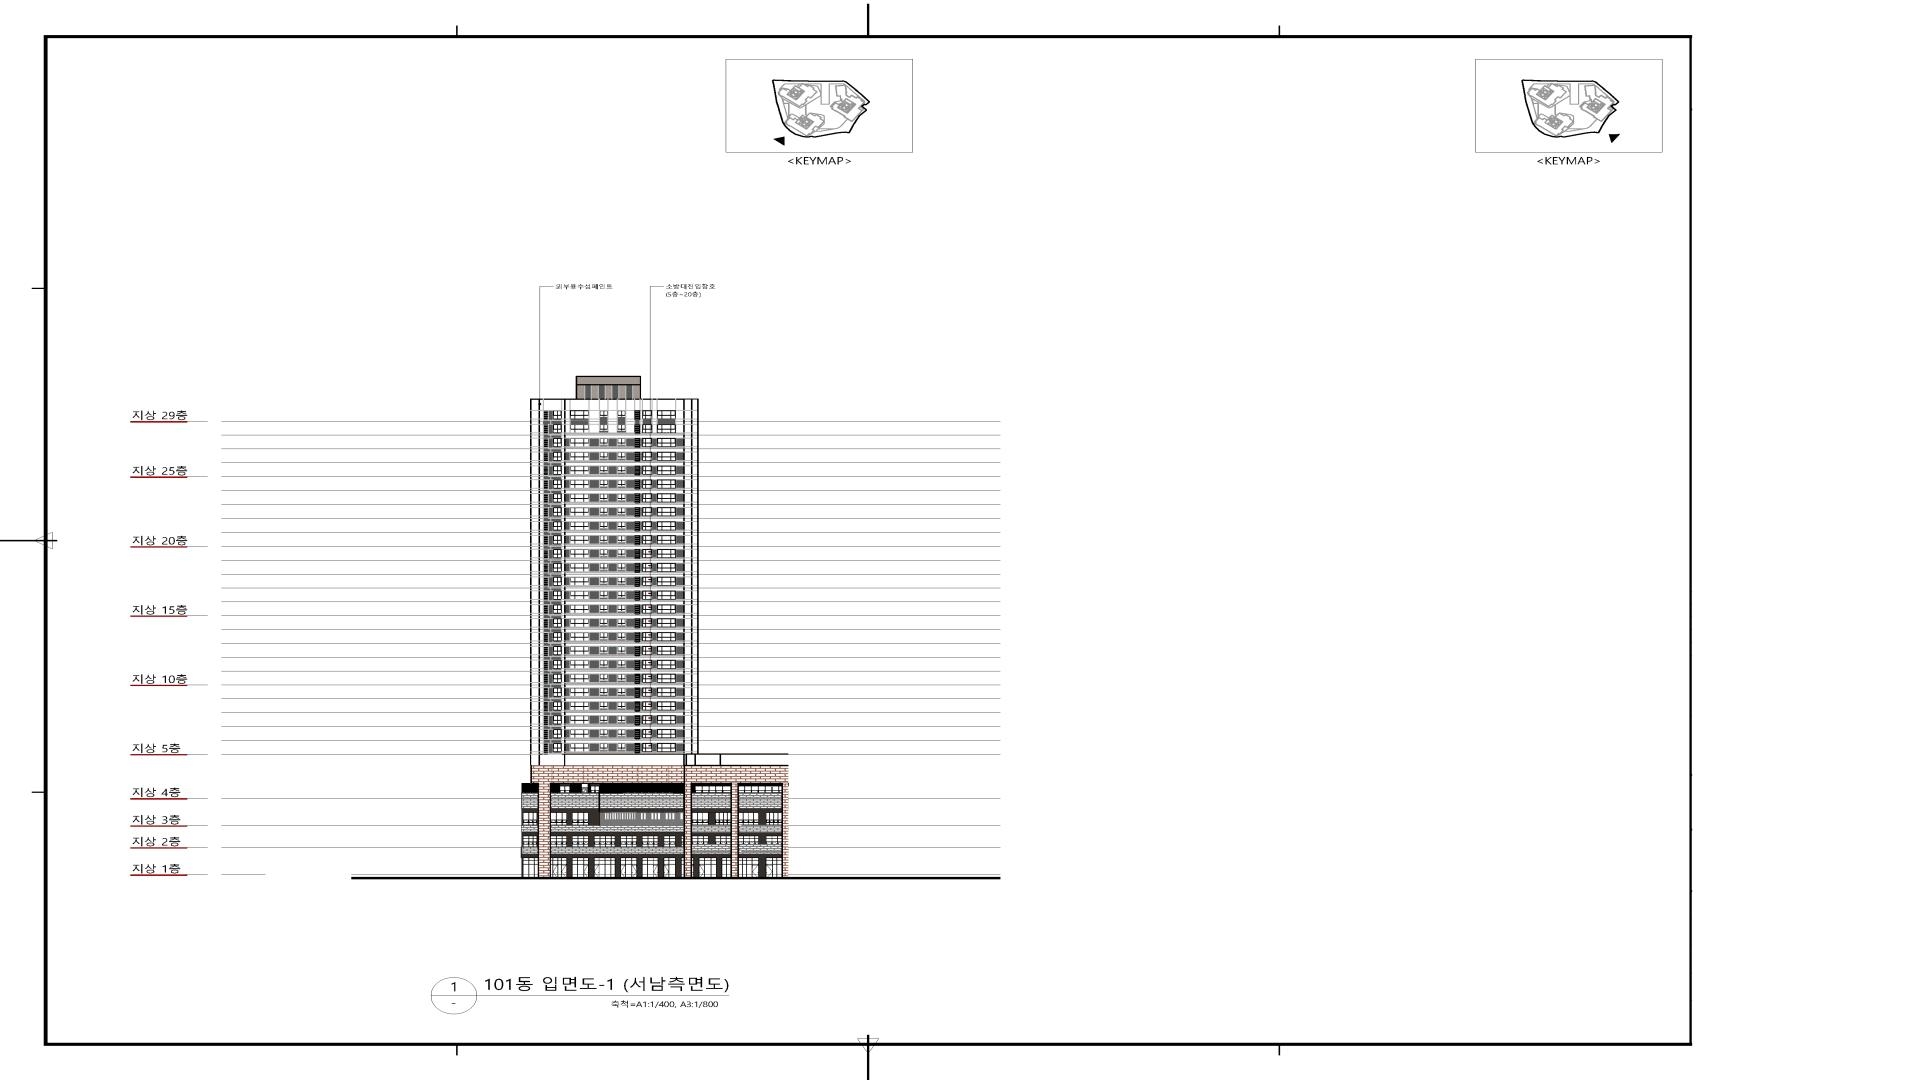door: (752, 864, 760, 877), (560, 864, 567, 877), (583, 864, 589, 877), (620, 864, 626, 877), (663, 864, 670, 877), (699, 864, 705, 877), (766, 864, 773, 877), (553, 864, 558, 877), (593, 864, 599, 877), (632, 864, 637, 877), (653, 864, 658, 877)
wall: (521, 376, 789, 880)
window: (737, 812, 760, 825), (595, 836, 616, 848), (550, 812, 567, 825), (715, 812, 732, 825), (691, 812, 709, 824), (572, 812, 588, 825), (550, 836, 567, 848), (766, 812, 783, 824), (524, 812, 538, 825), (642, 836, 658, 848), (657, 425, 676, 434), (657, 438, 676, 447), (657, 465, 676, 475), (657, 493, 676, 502), (657, 521, 676, 530), (657, 535, 676, 545), (657, 549, 676, 558), (657, 576, 676, 585), (657, 591, 676, 600), (657, 604, 676, 613), (657, 410, 676, 419), (657, 618, 676, 628), (657, 632, 676, 641), (657, 646, 676, 655), (657, 674, 676, 683), (657, 687, 676, 696), (657, 702, 676, 711), (657, 715, 676, 724), (657, 729, 676, 738), (524, 836, 538, 848), (657, 563, 675, 572), (570, 410, 588, 419), (572, 836, 588, 847), (621, 836, 637, 847), (737, 836, 758, 844), (571, 493, 588, 502), (657, 452, 676, 460), (657, 661, 676, 669), (657, 744, 676, 752), (570, 591, 588, 599), (570, 674, 588, 682), (570, 744, 588, 752), (657, 480, 675, 488), (657, 508, 675, 516), (663, 836, 675, 848), (571, 452, 588, 460), (571, 467, 588, 475), (571, 480, 588, 488), (571, 508, 588, 516), (571, 522, 588, 530), (571, 535, 588, 543), (571, 550, 588, 558), (571, 563, 588, 571), (571, 578, 588, 585), (571, 605, 588, 613), (571, 618, 588, 626), (571, 633, 588, 641), (571, 646, 588, 654), (571, 661, 588, 669), (571, 688, 588, 696), (571, 702, 588, 709), (571, 716, 588, 724), (571, 729, 588, 737), (691, 836, 708, 844), (715, 836, 732, 844), (766, 836, 783, 844), (571, 425, 588, 433), (571, 439, 588, 447), (553, 604, 562, 615), (553, 632, 562, 642), (553, 659, 562, 670), (553, 715, 562, 725), (553, 742, 562, 753), (642, 438, 653, 447), (642, 465, 653, 475), (553, 465, 562, 476), (553, 521, 562, 531), (553, 549, 562, 559), (553, 576, 562, 587), (642, 493, 653, 502), (642, 521, 653, 530), (642, 549, 653, 558), (642, 563, 653, 572), (642, 576, 653, 585), (642, 591, 653, 600), (642, 604, 653, 613), (642, 618, 653, 628), (642, 632, 653, 641), (642, 646, 653, 655), (642, 674, 653, 683), (642, 687, 653, 696), (642, 702, 653, 711), (642, 715, 653, 724), (642, 729, 653, 738), (642, 742, 653, 752), (642, 410, 653, 419), (553, 618, 562, 628), (553, 646, 562, 655), (553, 674, 562, 683), (553, 688, 562, 698), (553, 702, 562, 711), (553, 729, 562, 738), (553, 425, 562, 434), (553, 438, 562, 447), (553, 452, 562, 462), (553, 480, 562, 489), (553, 493, 562, 502), (553, 508, 562, 517), (553, 535, 562, 545), (553, 563, 562, 572), (553, 591, 562, 600), (642, 425, 653, 433), (642, 452, 653, 460), (642, 480, 653, 488), (642, 508, 653, 516), (642, 535, 653, 543), (642, 661, 653, 669), (553, 411, 562, 419), (634, 438, 641, 448), (634, 465, 641, 476), (634, 493, 641, 504), (634, 521, 641, 531), (634, 535, 641, 546), (634, 549, 641, 559), (634, 563, 641, 574), (634, 576, 641, 587), (634, 591, 641, 601), (634, 604, 641, 615), (634, 618, 641, 629), (634, 632, 641, 642), (634, 646, 641, 657), (634, 659, 641, 670), (634, 687, 641, 698), (634, 702, 641, 712), (634, 715, 641, 725), (634, 729, 641, 740), (634, 742, 641, 753), (634, 410, 641, 421), (600, 452, 608, 460), (617, 452, 625, 460), (600, 688, 608, 696), (600, 702, 608, 709), (600, 716, 608, 724), (617, 729, 625, 737), (617, 744, 625, 752), (600, 729, 608, 737), (600, 744, 608, 752), (617, 438, 625, 446), (617, 425, 625, 433), (617, 410, 625, 418), (600, 410, 608, 418), (600, 425, 608, 433), (600, 438, 608, 446), (617, 467, 625, 475), (617, 480, 625, 488), (617, 493, 625, 501), (617, 508, 625, 516), (617, 522, 625, 530), (600, 467, 608, 475), (600, 480, 608, 488), (600, 495, 608, 502), (600, 508, 608, 516), (600, 522, 608, 530), (600, 535, 608, 543), (600, 550, 608, 558), (600, 563, 608, 571), (600, 578, 608, 585), (600, 591, 608, 599), (600, 605, 608, 613), (600, 618, 608, 626), (617, 535, 625, 543), (617, 550, 625, 558), (617, 563, 625, 571), (617, 578, 625, 585), (617, 591, 625, 599), (617, 605, 625, 613), (617, 618, 625, 626), (617, 633, 625, 641), (617, 646, 625, 654), (617, 661, 625, 669), (617, 674, 625, 682), (617, 688, 625, 696), (617, 702, 625, 709), (617, 716, 625, 724), (600, 633, 608, 641), (600, 646, 608, 654), (600, 661, 608, 669), (600, 674, 608, 682), (634, 425, 641, 434), (634, 452, 641, 462), (634, 480, 641, 489), (634, 508, 641, 517), (634, 674, 641, 683), (543, 438, 549, 447), (543, 493, 549, 502), (543, 508, 549, 517), (543, 550, 549, 559), (543, 563, 549, 572), (543, 591, 549, 600), (543, 605, 549, 615), (543, 618, 549, 628), (543, 633, 549, 642), (543, 646, 549, 655), (543, 661, 549, 670), (543, 674, 549, 683), (543, 688, 549, 698), (543, 702, 549, 711), (543, 716, 549, 725), (543, 729, 549, 738), (543, 744, 549, 753), (543, 410, 549, 419), (543, 425, 549, 434), (543, 452, 547, 462), (543, 467, 547, 476), (543, 480, 547, 489), (543, 522, 547, 531), (543, 535, 547, 545), (543, 578, 547, 587)
